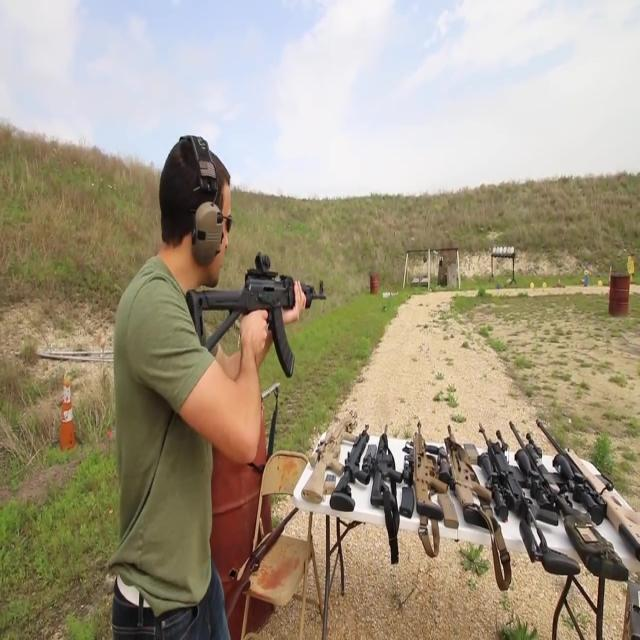Weapon: (280, 364, 640, 604), (174, 254, 333, 380), (212, 494, 316, 640)
